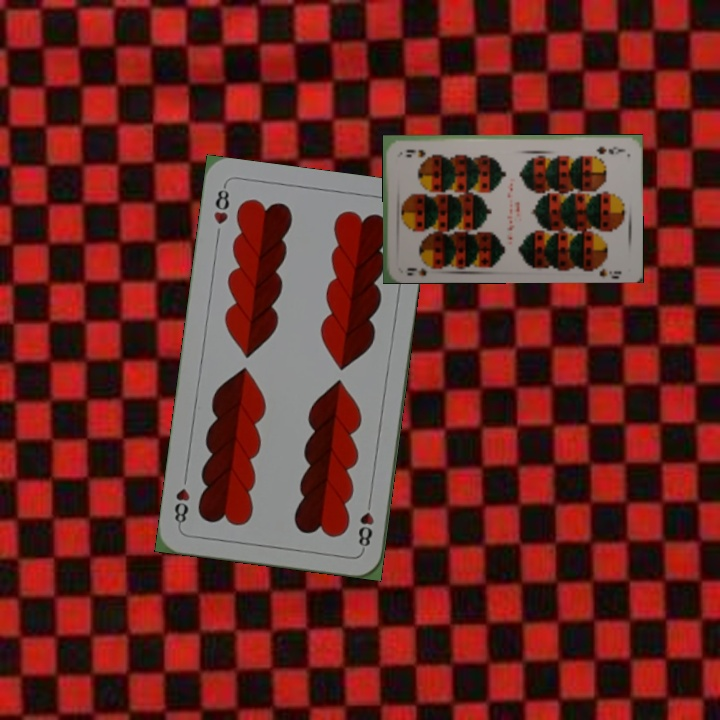H8: (354, 493, 377, 552), (209, 182, 232, 227)
S9: (404, 259, 438, 278), (592, 142, 626, 157)
